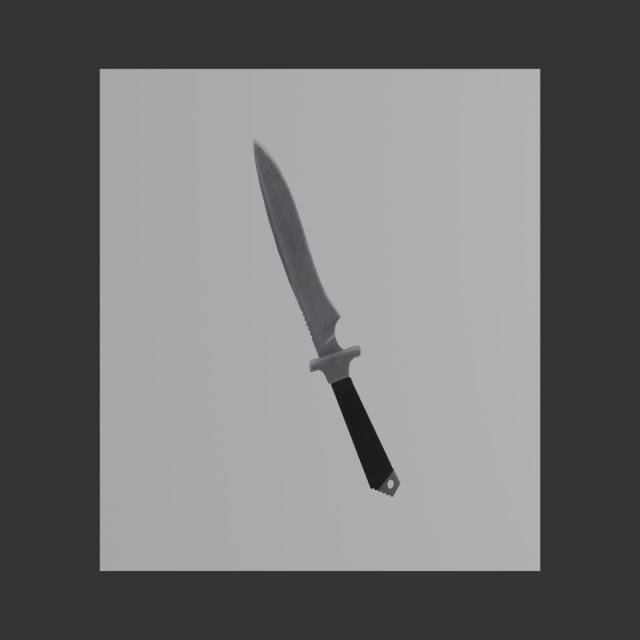knife: (331, 376, 400, 496)
